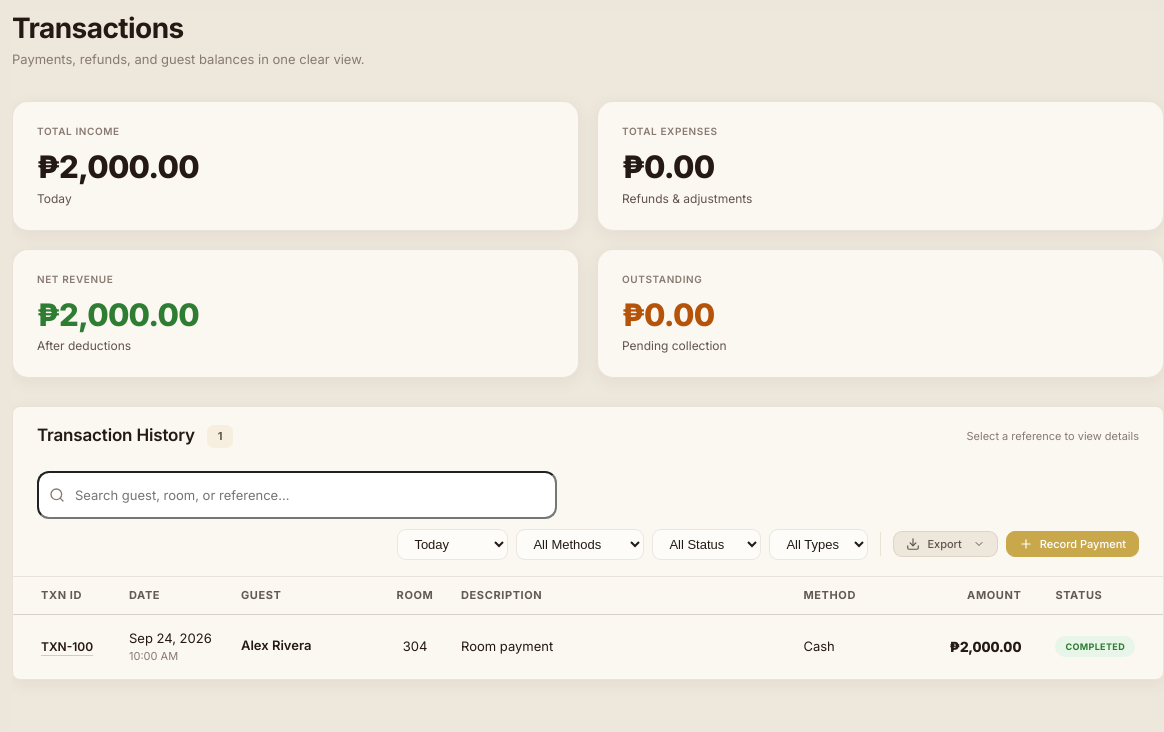
it: search trims whitespace and handles numeric API room numbers
The image size is (1164, 732).
Check: the button "TXN-100" is shown, box [41, 635, 93, 659]
Type " 304 " into the search field named "Search transactions" at (297, 495), box [37, 471, 557, 519]
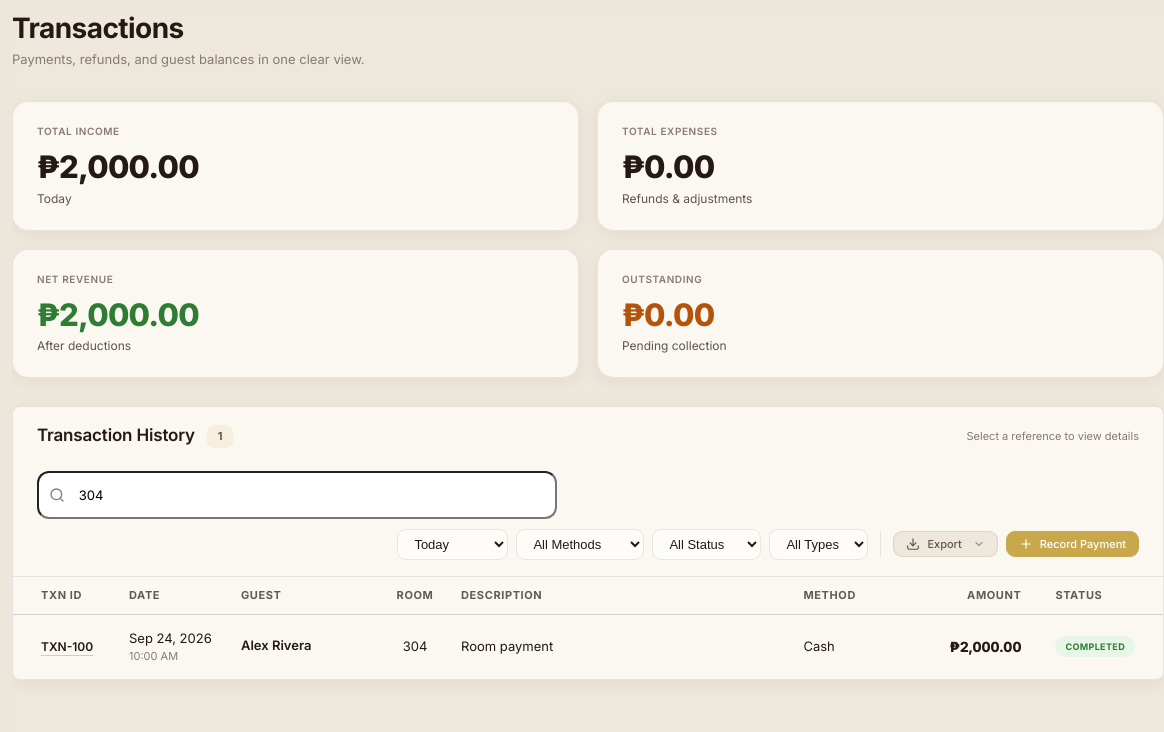
Check: the button "TXN-100" is shown, box [41, 635, 93, 659]
Select "Bank Transfer" in the dropdown named "Payment method filter" at (580, 544), box [516, 529, 644, 560]
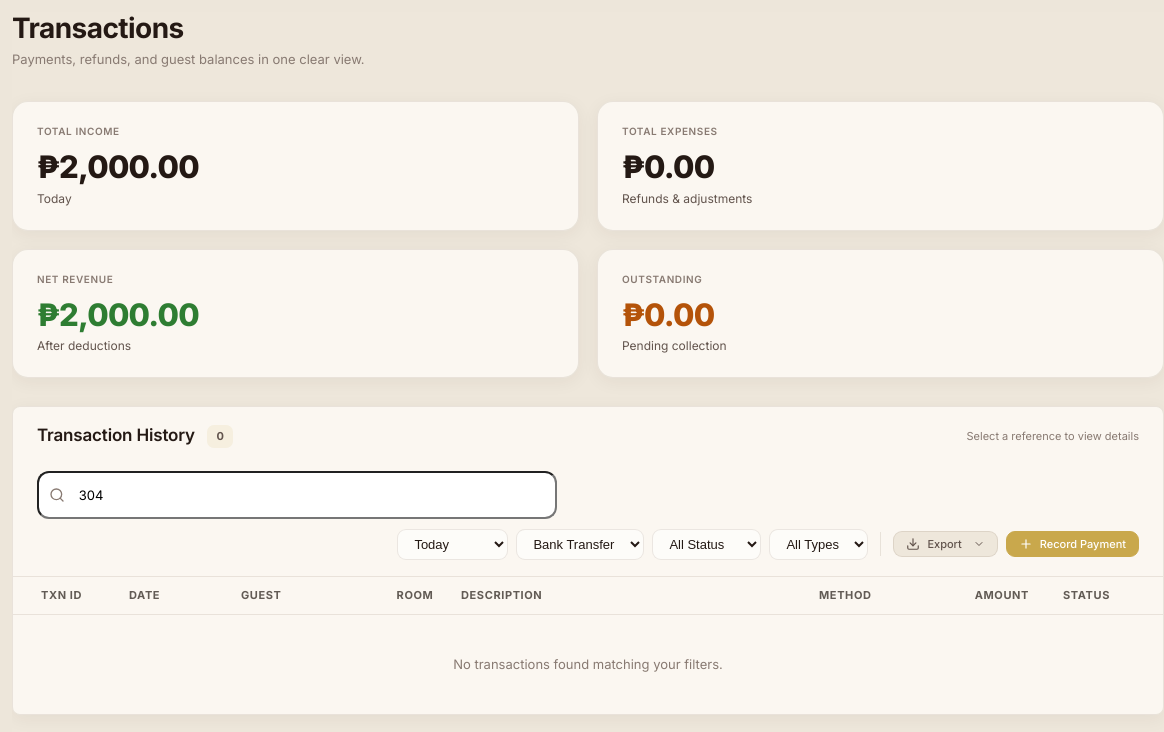
Check: the text "No transactions found matching your filters." is shown, box [13, 614, 1163, 714]
